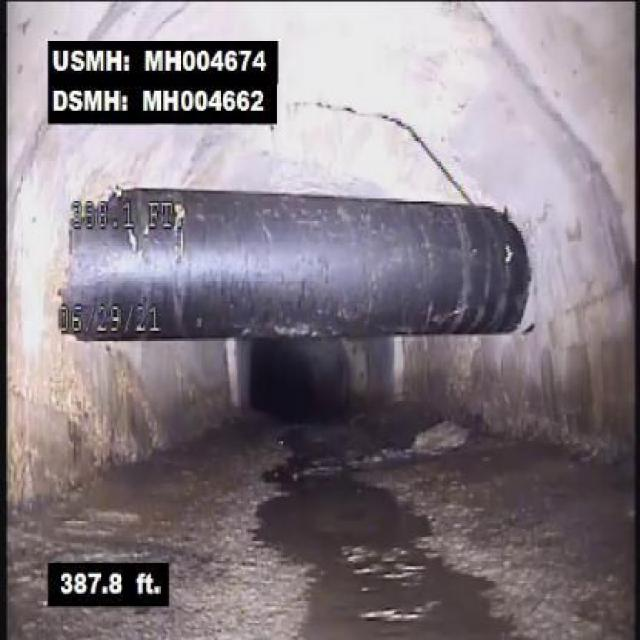Utility intrusion: (51, 183, 535, 345)
